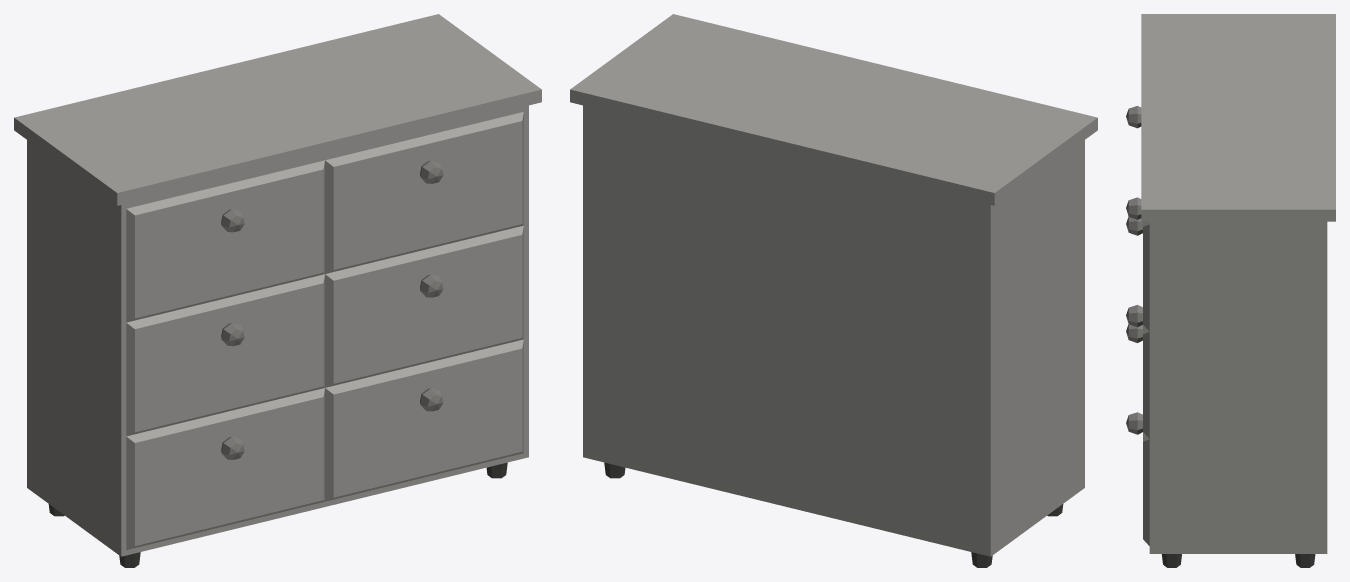
File: SM_Props_Interior_House_Room_Dresser_01.fbx
3 views of the same model, side by side, from view 1: azimuth 30°, elevation 25°; view 2: azimuth 150°, elevation 25°; view 3: azimuth 270°, elevation 25° (orthographic). The views are drawn at different scales.
Visible parts, largest first — view 1: SM_Props_Interior_House_Room_Dresser_01; view 2: SM_Props_Interior_House_Room_Dresser_01; view 3: SM_Props_Interior_House_Room_Dresser_01.
Boxes of the visible parts, x1,y1,x2,y2 form: SM_Props_Interior_House_Room_Dresser_01: (14, 14, 541, 567); SM_Props_Interior_House_Room_Dresser_01: (570, 14, 1097, 567); SM_Props_Interior_House_Room_Dresser_01: (1126, 14, 1335, 567).
Bounding box in the file's own units: 104 × 91.47 × 47.23.
